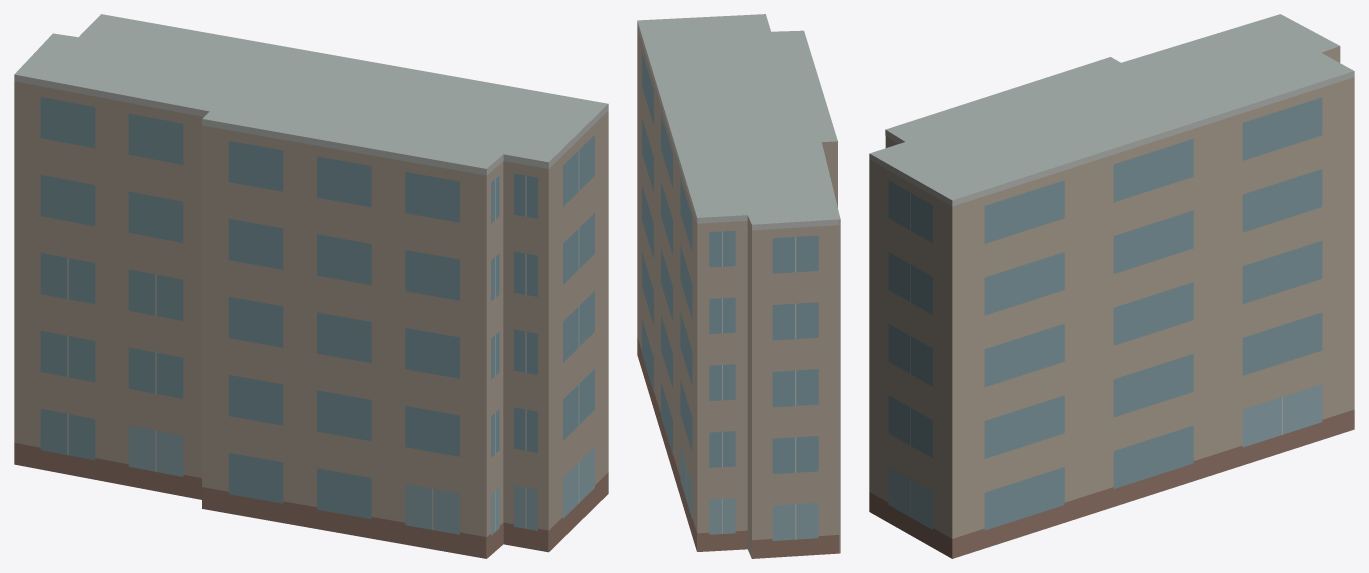
File: survey-upis-32731349.glb
3 views of the same model, side by side, from view 1: azimuth 30°, elevation 25°; view 2: azimuth 150°, elevation 25°; view 3: azimuth 270°, elevation 25° (orthographic). The views are drawn at different scales.
Visible parts, largest first — view 1: survey-upis-32731349.tmp; view 2: survey-upis-32731349.tmp; view 3: survey-upis-32731349.tmp.
Boxes of the visible parts, x1=… form: survey-upis-32731349.tmp: x1=14, y1=14, x2=608, y2=558; survey-upis-32731349.tmp: x1=637, y1=14, x2=840, y2=558; survey-upis-32731349.tmp: x1=869, y1=14, x2=1354, y2=558.
Size of the model in its own units: 15.96 by 14.3 by 17.55.
